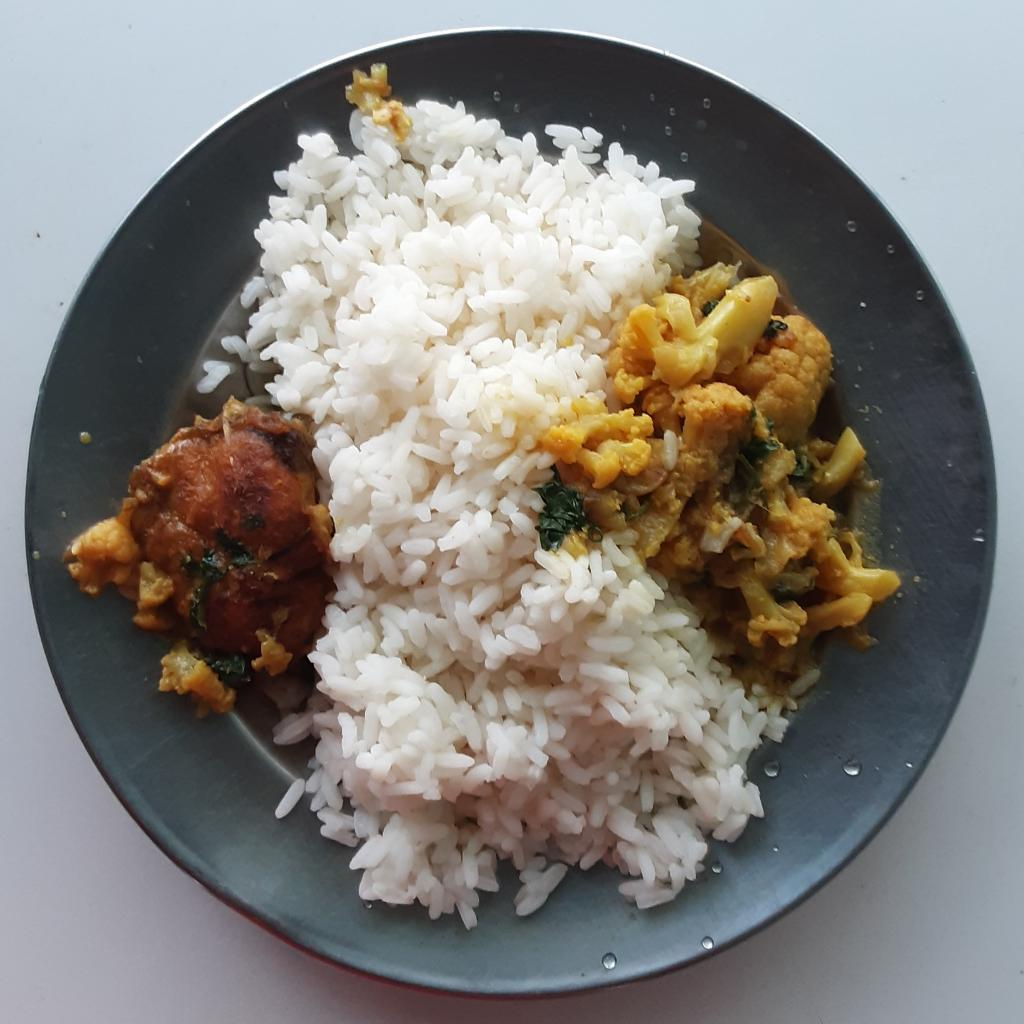cauliflower: (545, 249, 903, 694), (67, 519, 232, 721)
fish: (119, 391, 333, 702)
rice: (220, 59, 788, 937)
